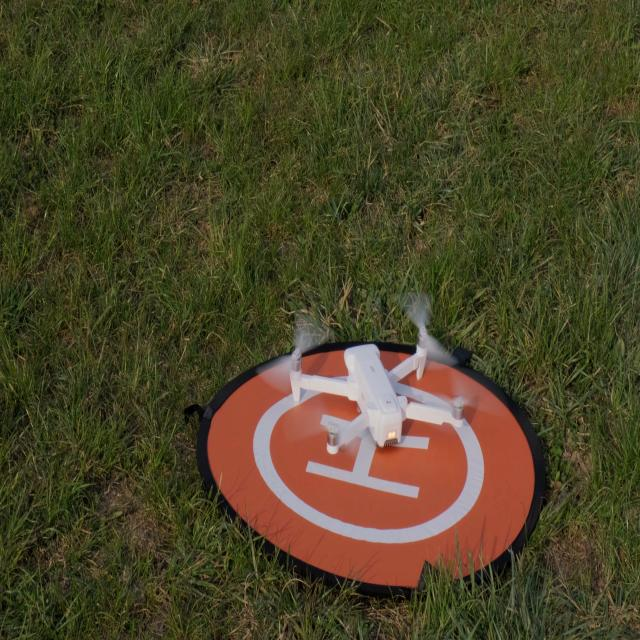drone: (257, 290, 507, 462)
